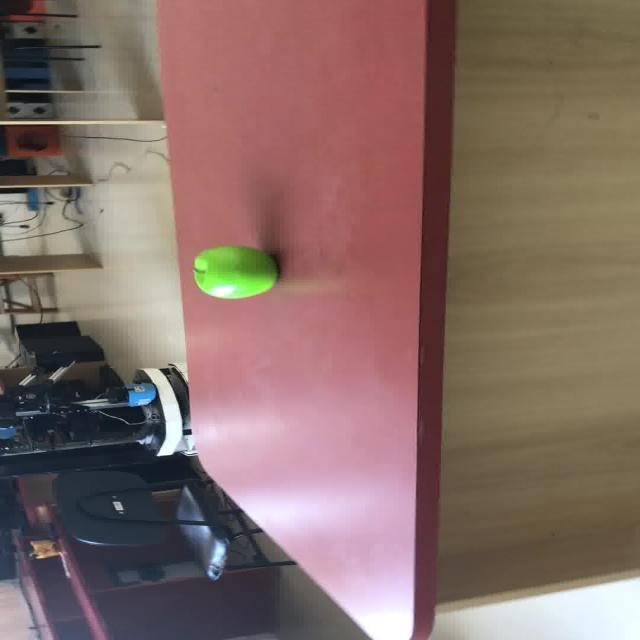apple: (191, 244, 278, 299)
